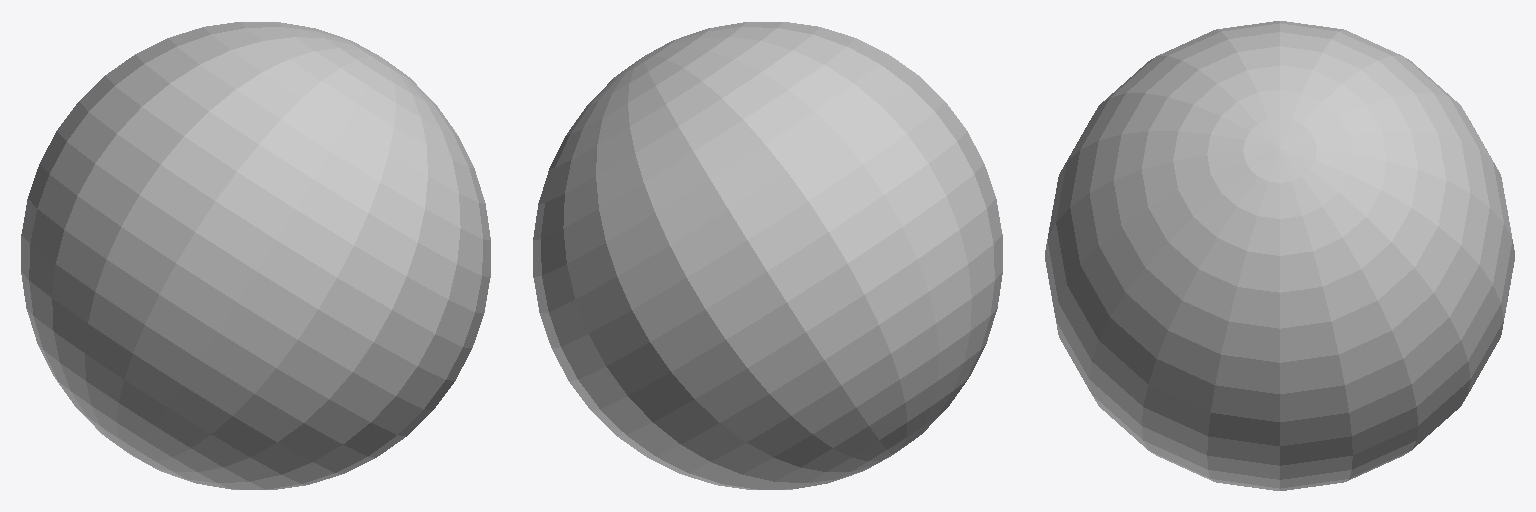
File: player_Rarm_elbow.obj
3 renders of one model, left to right at view 1: azimuth 30°, elevation 25°; view 2: azimuth 150°, elevation 25°; view 3: azimuth 270°, elevation 25°, orthographic.
Parts seen in each view (by area): view 1: pSphere1 group2; view 2: pSphere1 group2; view 3: pSphere1 group2.
Part boxes in pixels (x1,y1,x2,y2): pSphere1 group2: (21, 22, 490, 489); pSphere1 group2: (533, 22, 1002, 489); pSphere1 group2: (1045, 21, 1514, 490).
Bounding box in the file's own units: 0.7418 × 0.7418 × 0.7423.